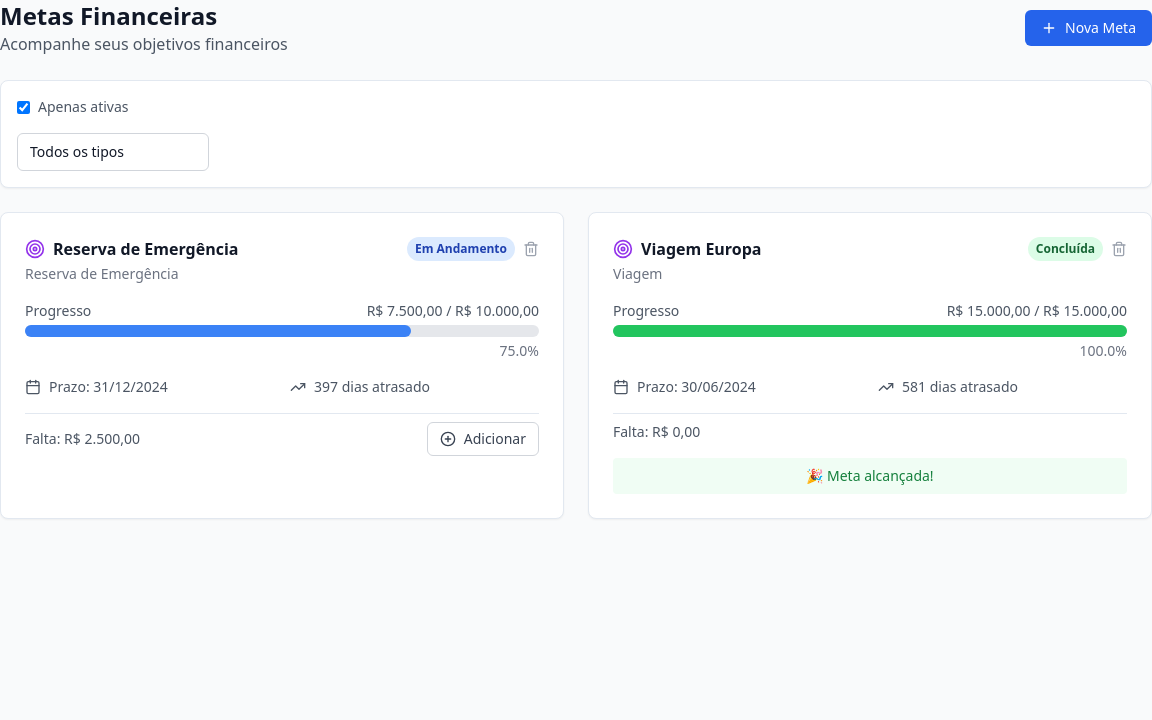
Test: GoalsPage › Progress Addition › Requirement 6.2: Progress tracking › should open progress modal when clicking add
expect the heading "Reserva de Emergência" is shown: met, box top-left (53, 237), bottom-right (238, 261)
Click the button "Adicionar" at (483, 439), box top-left (427, 422), bottom-right (539, 456)
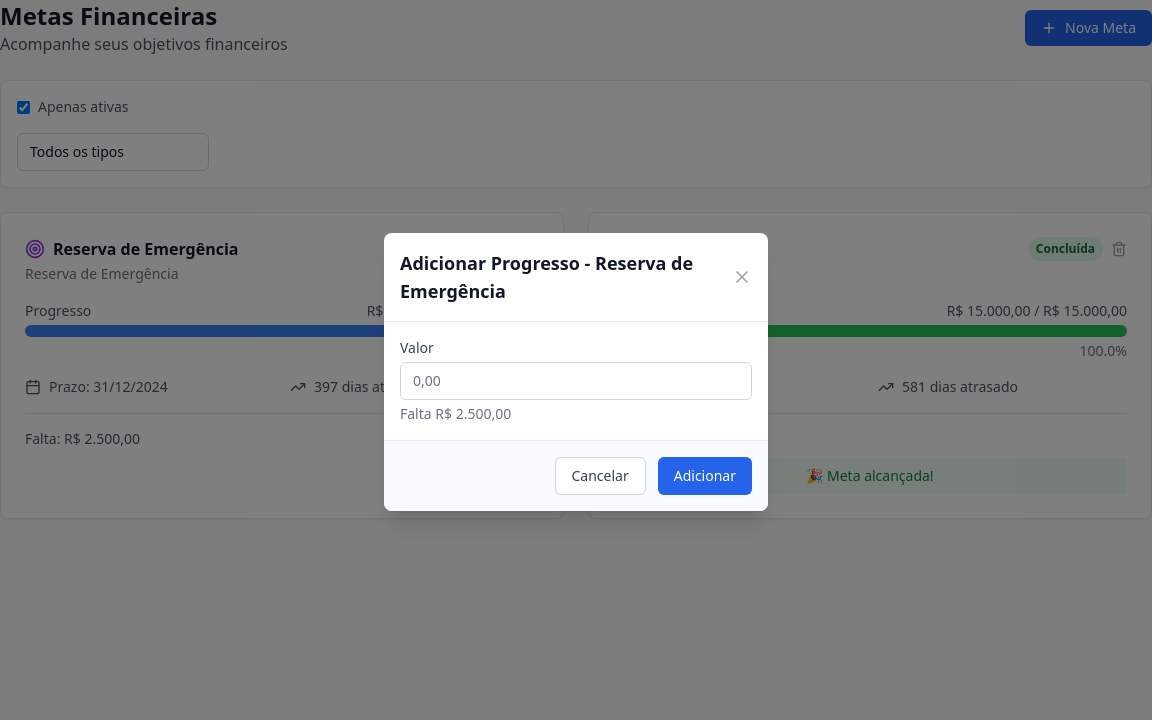
expect the heading "Adicionar Progresso - Reserva de Emergência" is shown: met, box top-left (400, 249), bottom-right (732, 305)
